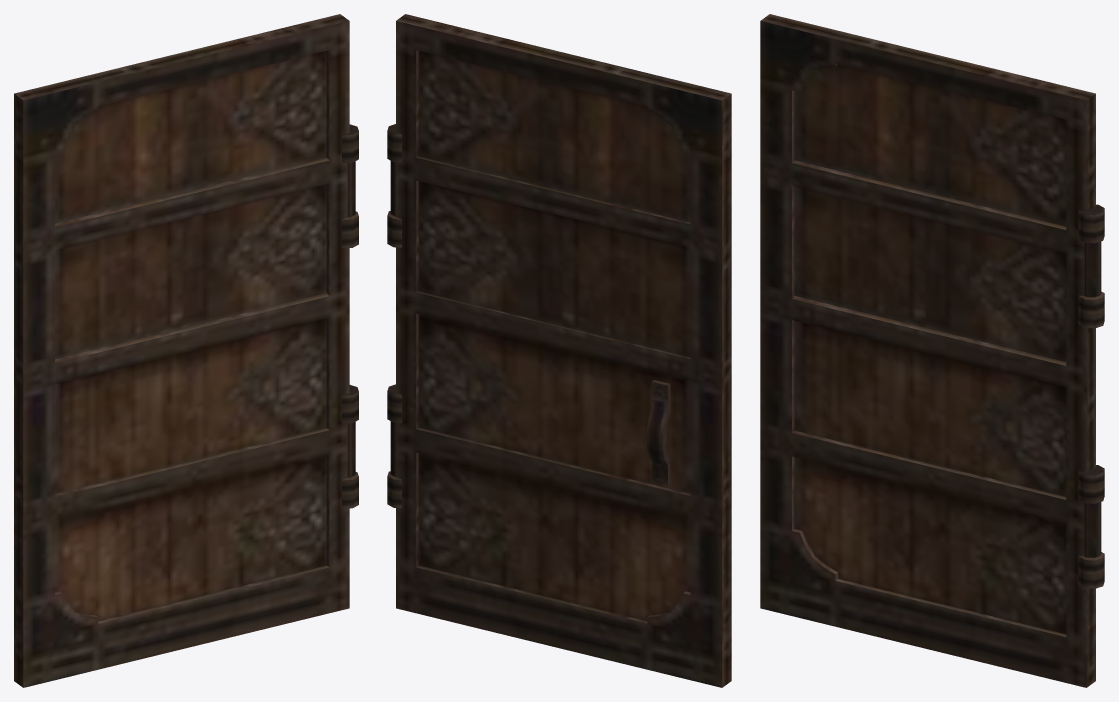
The model's file is o_mdl_env_buildingDoorInteractibleC-transformed.glb.
3 views of the same model, side by side, from view 1: azimuth 30°, elevation 25°; view 2: azimuth 150°, elevation 25°; view 3: azimuth 330°, elevation 25° (orthographic).
Parts seen in each view (by area): view 1: default; view 2: default; view 3: default.
Part boxes in pixels (x1,y1,x2,y2): default: [14, 14, 358, 687]; default: [387, 14, 731, 687]; default: [760, 14, 1104, 687].
Bounding box in the file's own units: 1.45 × 2.4 × 0.1241.
Materials: 1 (1 with a texture image).
